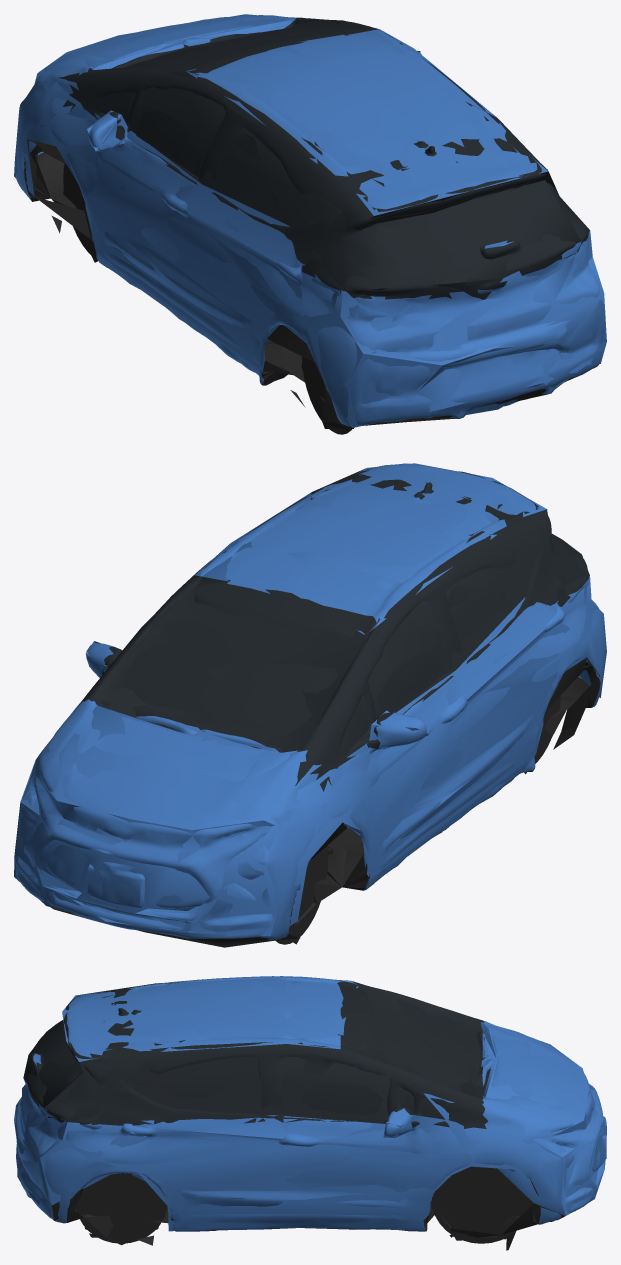
File: chevrolet-bolt-euv.glb
3 views of the same model, one above another, from view 1: azimuth 30°, elevation 25°; view 2: azimuth 150°, elevation 25°; view 3: azimuth 270°, elevation 25° (orthographic). The views are drawn at different scales.
Visible parts, largest first — view 1: body, far; view 2: body, far; view 3: body, far.
Part boxes in pixels (bbox=[...]): body: bbox=[16, 15, 605, 434]; far: bbox=[14, 14, 606, 430]; body: bbox=[15, 463, 605, 947]; far: bbox=[14, 463, 606, 944]; body: bbox=[15, 976, 606, 1250]; far: bbox=[14, 976, 606, 1245].
Bounding box in the file's own units: 2.16 × 1.65 × 4.33.
